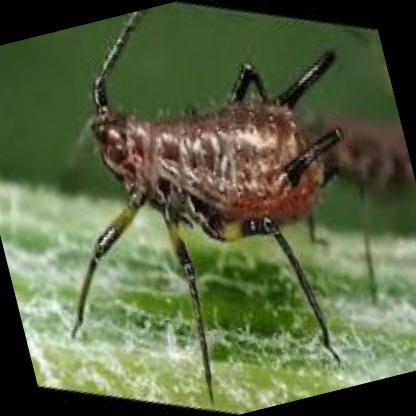uroleucon compositae: (91, 19, 345, 397)
